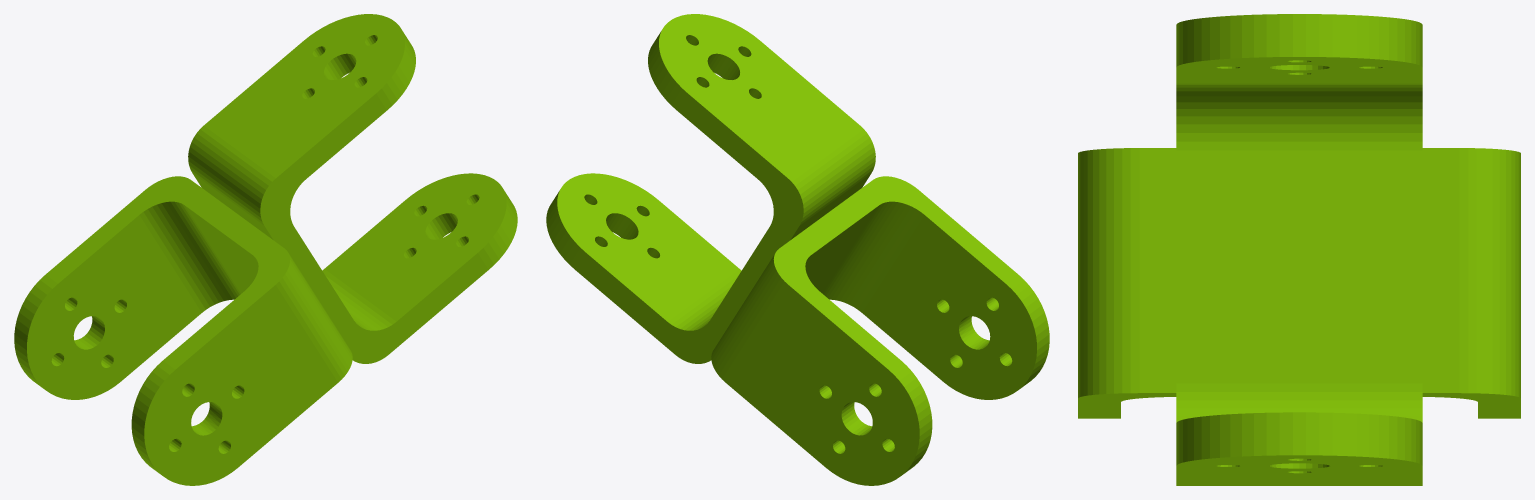
Rendered from hexy_test_5_Coxa_3_vis_1.dae.
3 renders of one model, left to right at view 1: azimuth 30°, elevation 25°; view 2: azimuth 150°, elevation 25°; view 3: azimuth 270°, elevation 25°, orthographic. The views are drawn at different scales.
Visible parts, largest first — view 1: node; view 2: node; view 3: node.
Boxes of the visible parts, <box> form: node: <box>14,14,517,485</box>; node: <box>546,14,1049,485</box>; node: <box>1078,14,1520,485</box>.
Size of the model in its own units: 0.3417 by 0.2704 by 0.18.
